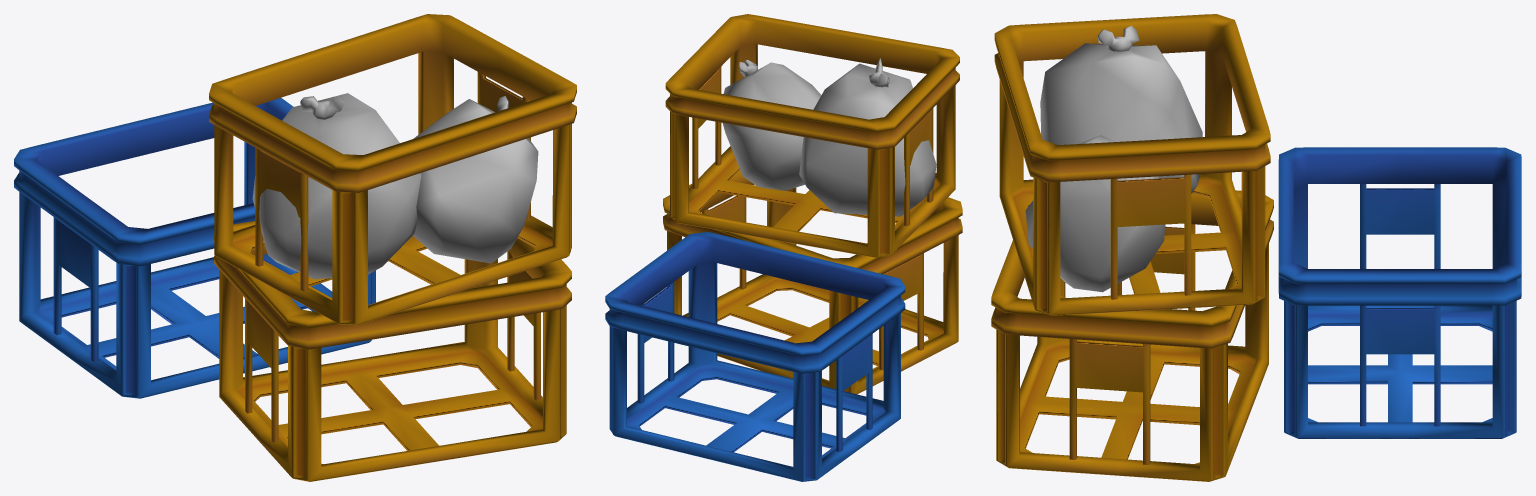
Rendered from PlasticboxDumy_SM.fbx.
3 renders of one model, left to right at view 1: azimuth 30°, elevation 25°; view 2: azimuth 150°, elevation 25°; view 3: azimuth 270°, elevation 25°, orthographic. The views are drawn at different scales.
Visible parts, largest first — view 1: CJ_PlasticBox_SM; view 2: CJ_PlasticBox_SM; view 3: CJ_PlasticBox_SM.
Part boxes in pixels (x1=…): CJ_PlasticBox_SM: x1=14, y1=14, x2=576, y2=481; CJ_PlasticBox_SM: x1=605, y1=14, x2=962, y2=481; CJ_PlasticBox_SM: x1=991, y1=14, x2=1521, y2=481.
Bounding box in the file's own units: 70.03 × 68.92 × 94.37.
